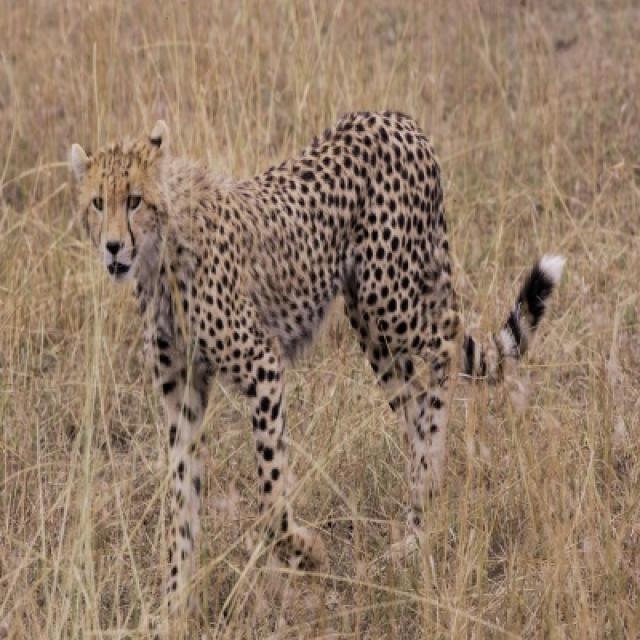Cheetah: (67, 112, 566, 592)
